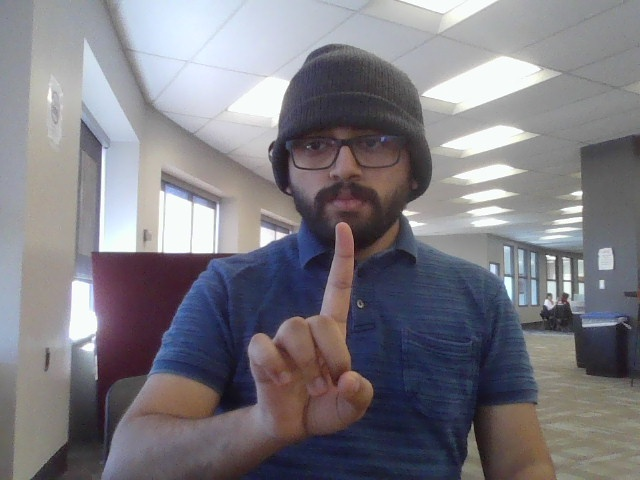one: (239, 219, 409, 444)
